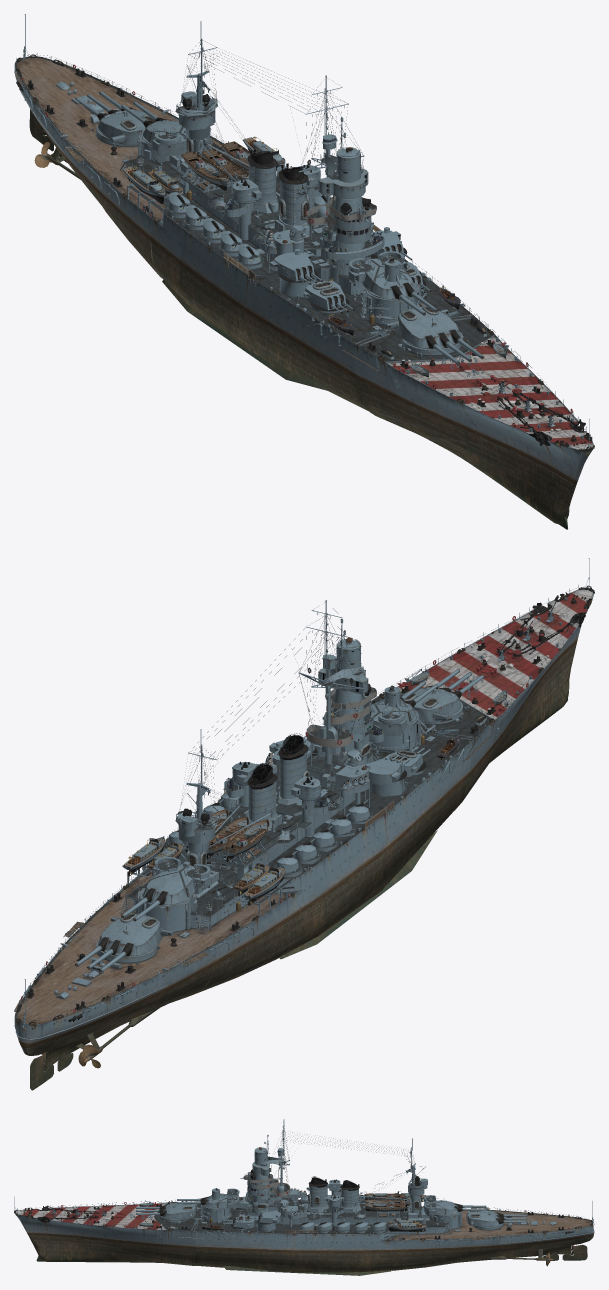
Rendered from andrea_doria_world_of_warships-maximum-compressed.glb.
The picture shows the model from 3 angles, top to bottom: view 1: azimuth 30°, elevation 25°; view 2: azimuth 150°, elevation 25°; view 3: azimuth 270°, elevation 25°; orthographic projection. The views are drawn at different scales.
Visible parts, largest first — view 1: Object_82, Object_96, Object_31, Object_9, Object_80, Object_83, Object_60, Object_67, Object_16, Object_97, Object_89, Object_76 (+10 smaller); view 2: Object_96, Object_9, Object_82, Object_31, Object_80, Object_60, Object_67, Object_16, Object_97, Object_76, Object_70, Object_83 (+9 smaller); view 3: Object_96, Object_82, Object_9, Object_31, Object_80, Object_83, Object_60, Object_97, Object_67, Object_16, Object_76, Object_81 (+9 smaller).
Boxes of the visible parts, x1,y1,x2,y2 form: Object_82: (367, 317, 594, 529); Object_96: (180, 75, 474, 411); Object_31: (209, 77, 384, 295); Object_9: (14, 14, 178, 188); Object_80: (86, 21, 276, 278); Object_83: (341, 314, 494, 433); Object_60: (75, 91, 484, 365); Object_67: (121, 101, 437, 315); Object_16: (125, 75, 276, 214); Object_97: (150, 206, 220, 311); Object_89: (269, 227, 431, 292); Object_76: (182, 165, 373, 266); Object_96: (223, 600, 474, 943); Object_9: (14, 921, 208, 1090); Object_82: (371, 558, 594, 787); Object_31: (224, 601, 384, 852); Object_80: (86, 729, 308, 995); Object_60: (75, 669, 484, 972); Object_67: (121, 681, 438, 921); Object_16: (126, 784, 294, 930); Object_97: (165, 842, 324, 959); Object_76: (165, 793, 373, 861); Object_70: (193, 602, 469, 862); Object_83: (371, 693, 496, 808); Object_96: (191, 1119, 370, 1275); Object_82: (14, 1196, 189, 1262); Object_9: (469, 1201, 594, 1261); Object_31: (244, 1120, 365, 1229); Object_80: (370, 1138, 466, 1270); Object_83: (154, 1201, 204, 1265); Object_60: (136, 1201, 527, 1227); Object_97: (359, 1206, 392, 1275); Object_67: (177, 1192, 486, 1216); Object_16: (354, 1169, 445, 1240); Object_76: (297, 1195, 386, 1231); Object_81: (458, 1210, 474, 1262).
Bounding box in the file's own units: 1.84 × 3.4 × 12.48.
Materials: 64 (63 with a texture image).
